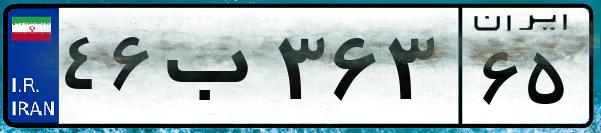3: (270, 28, 330, 110), (385, 28, 445, 110)
4: (57, 26, 110, 100)
5: (525, 38, 570, 115)
6: (330, 28, 385, 110), (475, 38, 525, 113), (110, 28, 158, 98)
ب: (158, 20, 270, 120)
